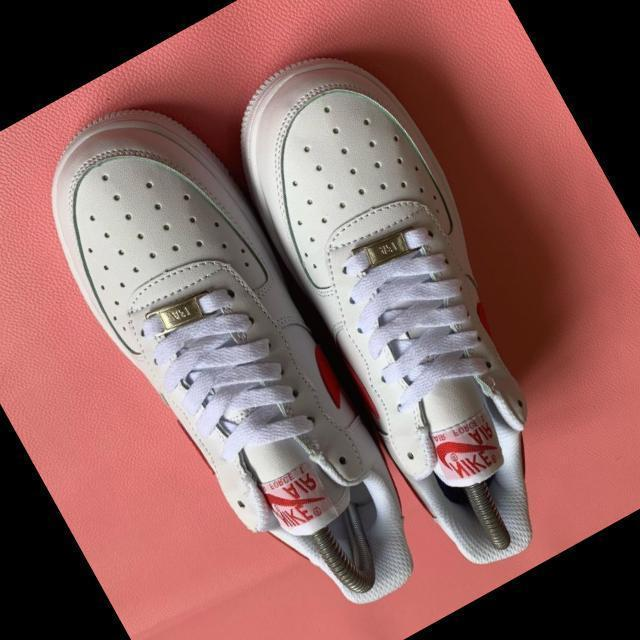nike fake air force: (13, 75, 470, 640), (194, 11, 636, 594)
